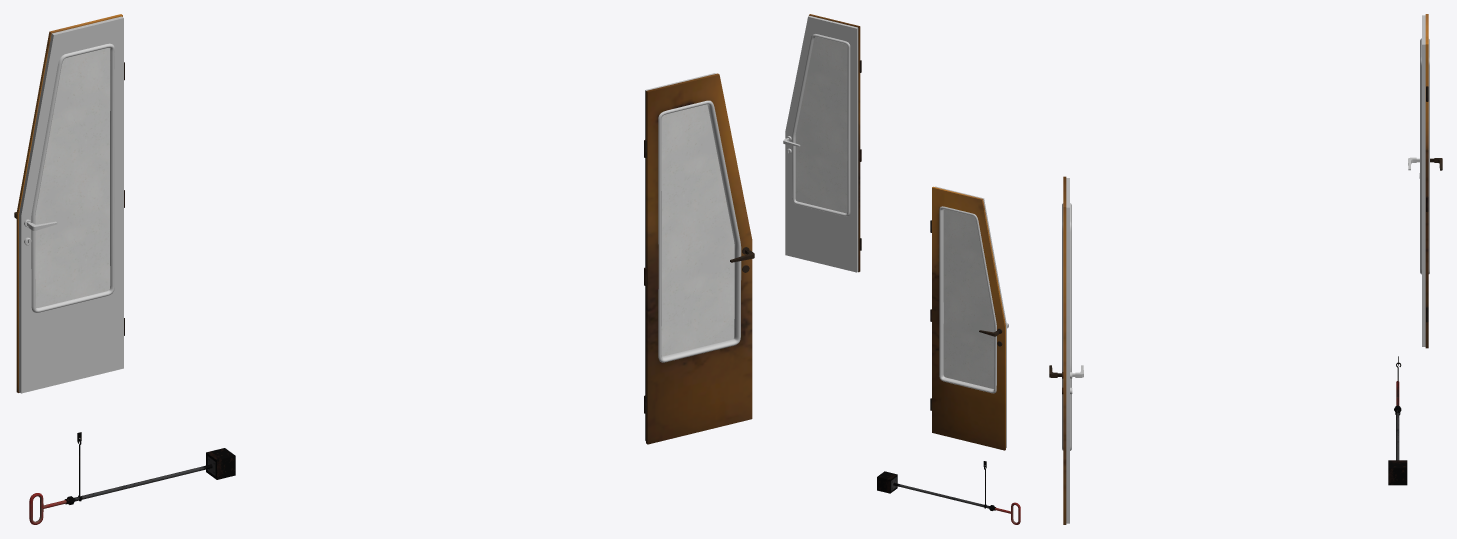
Rendered from LocoDE2_ExternalInteractables (merge).fbx.
3 views of the same model, side by side, from view 1: azimuth 30°, elevation 25°; view 2: azimuth 150°, elevation 25°; view 3: azimuth 270°, elevation 25° (orthographic). The views are drawn at different scales.
Visible parts, largest first — view 1: cab_door1b, cab_door1b_window, cab_door2b_window, ext cab_door2a_LOD, ext cab_door2a, cab_door2b, BrakeCylinderRelease, ext cab_door1a; view 2: cab_door2b, ext cab_door1a, cab_door2b_window, cab_door1b_window, ext cab_door1a_LOD, cab_door1b, BrakeCylinderRelease, ext cab_door2a, ext cab_door2a_LOD; view 3: cab_door2b, cab_door1b, ext cab_door2a, ext cab_door1a, ext cab_door1a_LOD, BrakeCylinderRelease.
Part boxes in pixels (x1=…): cab_door1b: x1=19, y1=16, x2=123, y2=393; cab_door1b_window: x1=35, y1=48, x2=110, y2=307; cab_door2b_window: x1=661, y1=104, x2=734, y2=356; ext cab_door2a_LOD: x1=646, y1=92, x2=752, y2=444; ext cab_door2a: x1=644, y1=73, x2=754, y2=444; cab_door2b: x1=645, y1=73, x2=741, y2=440; BrakeCylinderRelease: x1=64, y1=432, x2=235, y2=504; ext cab_door1a: x1=14, y1=14, x2=124, y2=392; cab_door2b: x1=783, y1=15, x2=858, y2=272; ext cab_door1a: x1=930, y1=186, x2=1005, y2=450; cab_door2b_window: x1=795, y1=36, x2=847, y2=213; cab_door1b_window: x1=943, y1=209, x2=994, y2=388; ext cab_door1a_LOD: x1=932, y1=189, x2=1005, y2=450; cab_door1b: x1=935, y1=186, x2=1008, y2=447; BrakeCylinderRelease: x1=877, y1=461, x2=995, y2=510; ext cab_door2a: x1=809, y1=14, x2=861, y2=272; ext cab_door2a_LOD: x1=858, y1=27, x2=860, y2=270; cab_door2b: x1=1062, y1=178, x2=1083, y2=523; cab_door1b: x1=1408, y1=15, x2=1429, y2=346; ext cab_door2a: x1=1049, y1=176, x2=1066, y2=524; ext cab_door1a: x1=1425, y1=14, x2=1442, y2=348; ext cab_door1a_LOD: x1=1425, y1=44, x2=1428, y2=347; BrakeCylinderRelease: x1=1388, y1=356, x2=1407, y2=485.
Size of what is drawn, in the model's own units: 2.81 by 2.4 by 2.1.
